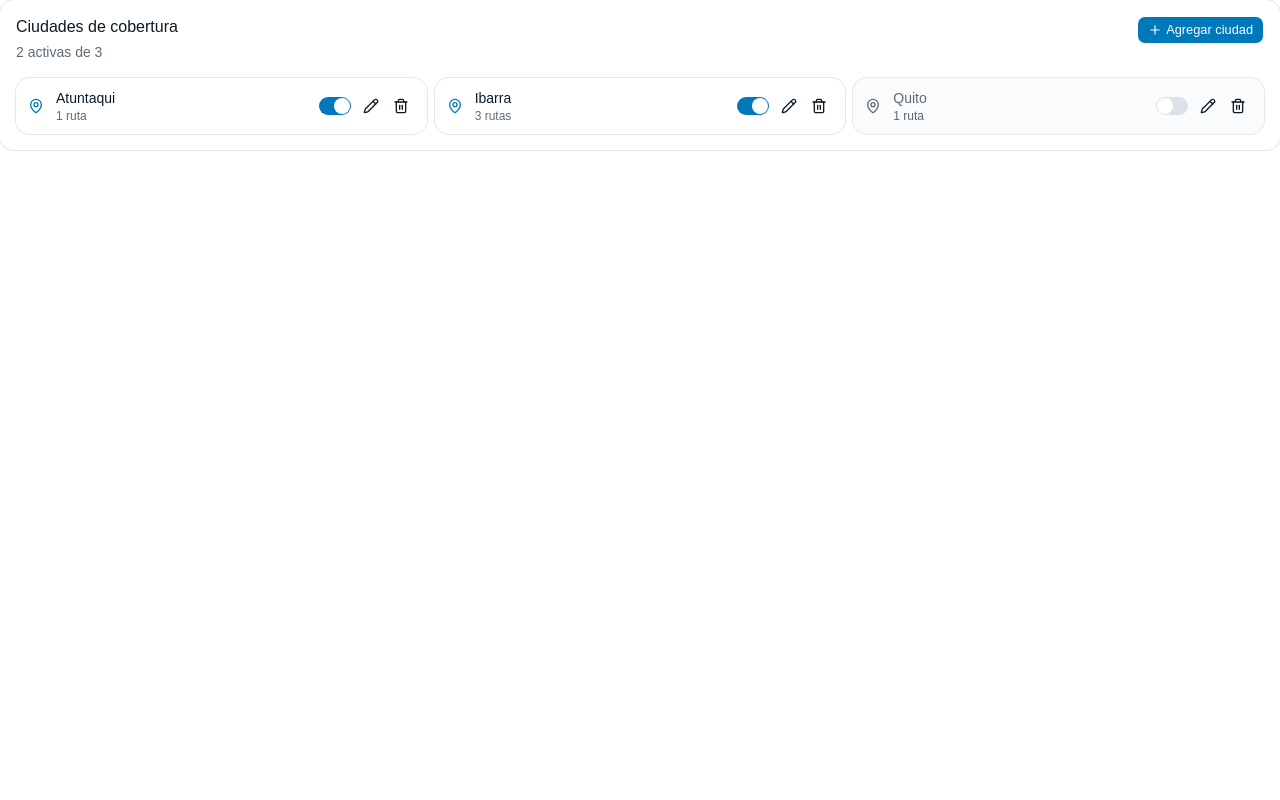
Test: CiudadesCobertura › ADMIN agrega una ciudad enviando el nombre recortado
Click the button "Agregar ciudad" at point(1201, 30), box [1137,16,1264,44]
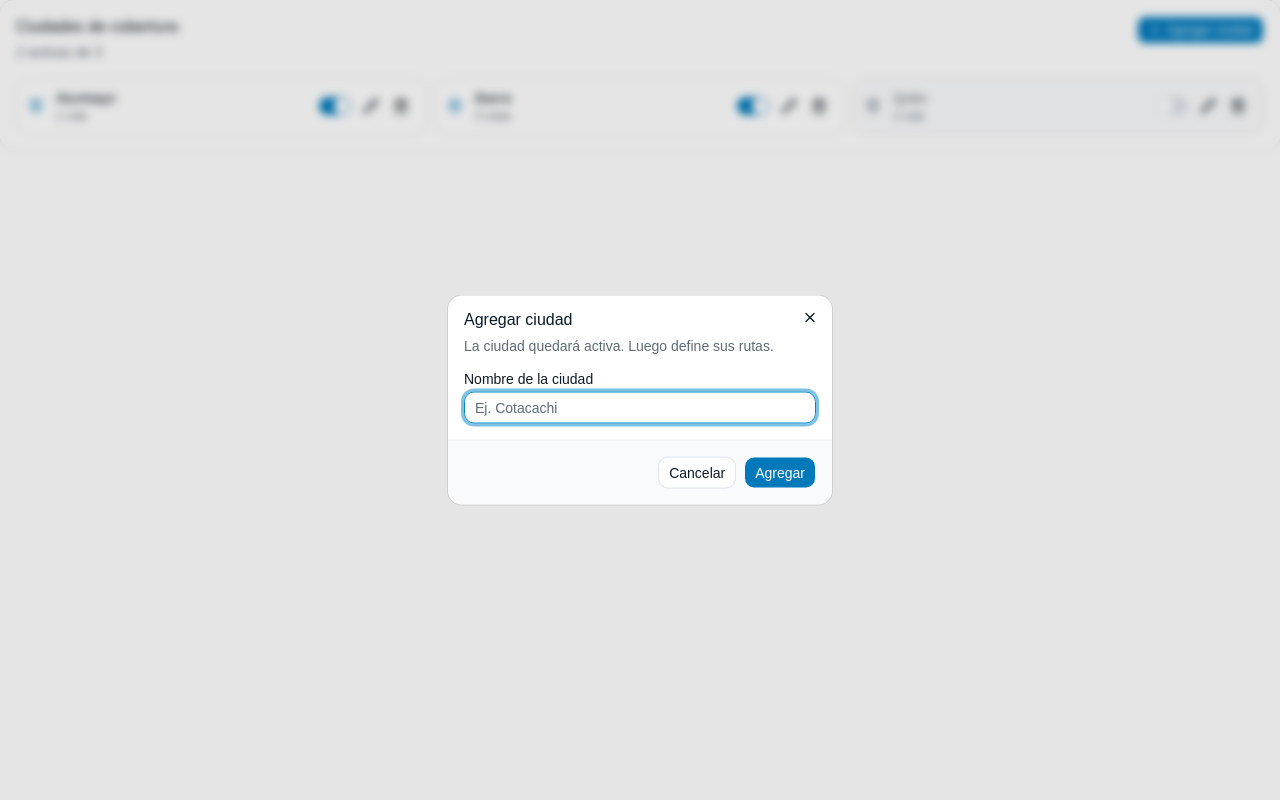
Type "  Cotacachi  " into the field labelled "Nombre de la ciudad" at point(640, 408), box [464,392,816,424]
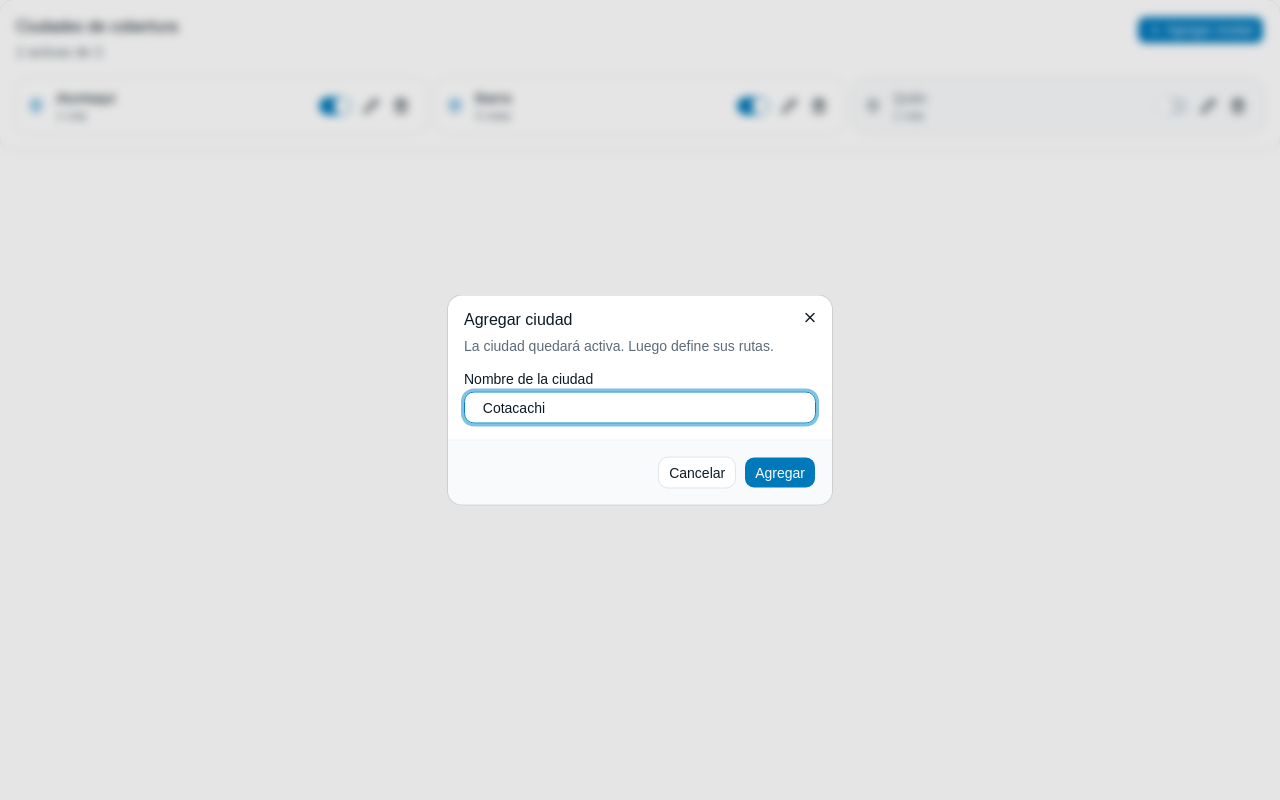
Click the button "Agregar" at point(780, 472), box [744,456,816,488]
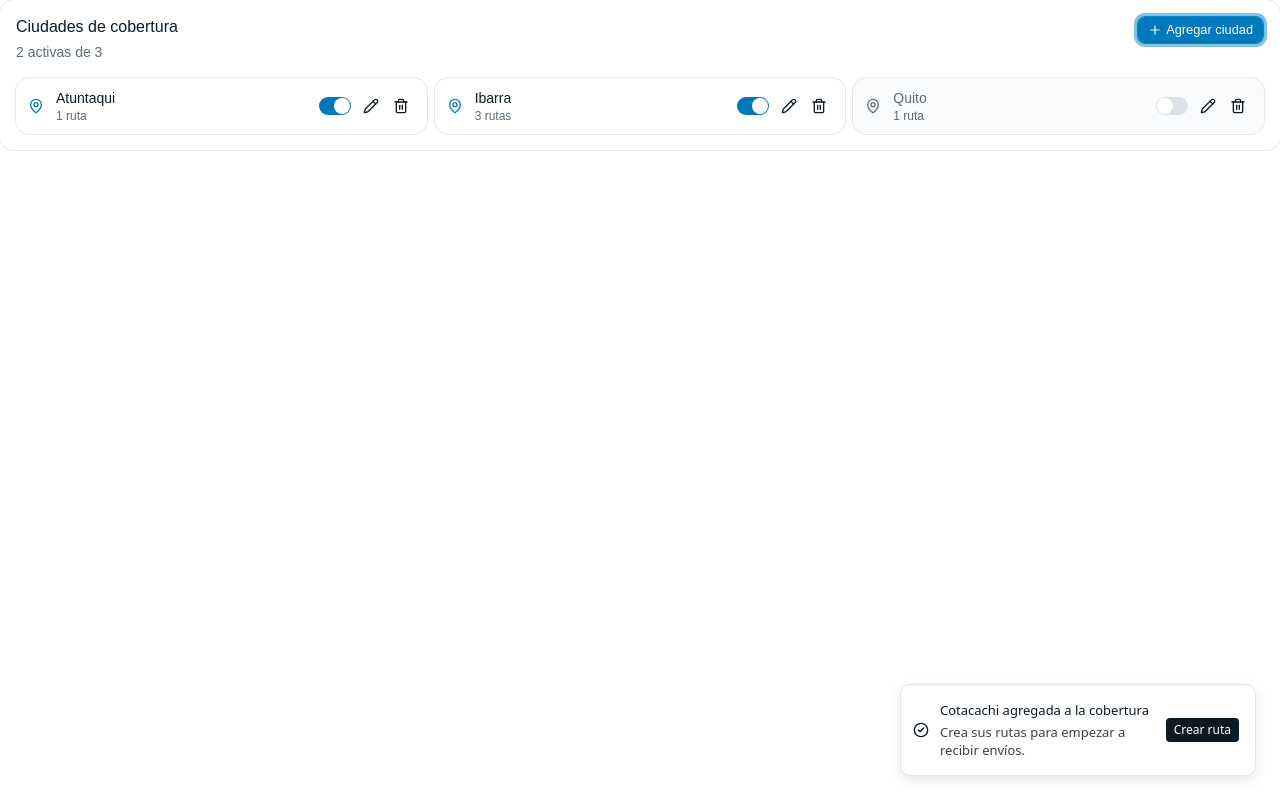
Now the text "Cotacachi agregada a la cobertura" is shown, box [940,701,1160,721]
